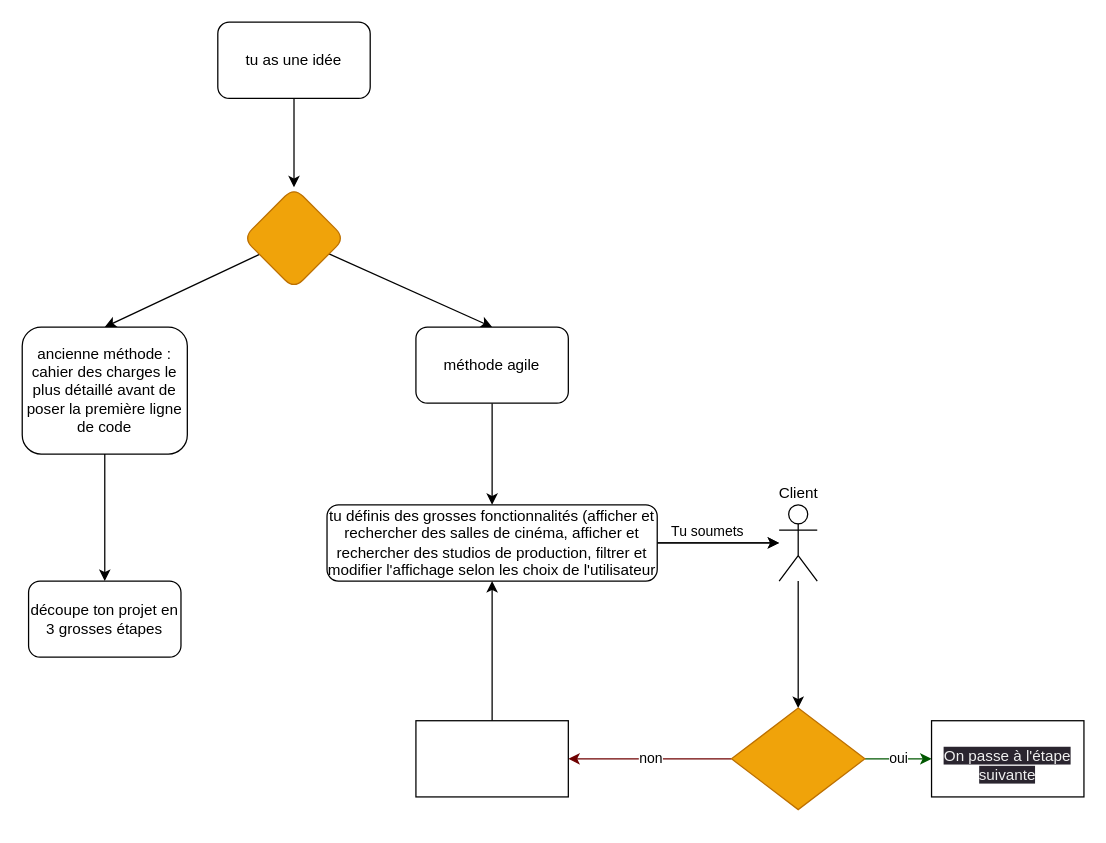
Image size: 1106x843. Some labels were removed from this diagram. Here are the shapes that lost their labels. From the top down, the box of each, then its label:
(242, 186, 345, 289): Quelle approche ?
(415, 719, 568, 797): On redefinit ce qui ne va pas
(730, 707, 865, 810): Cela convient il ?
